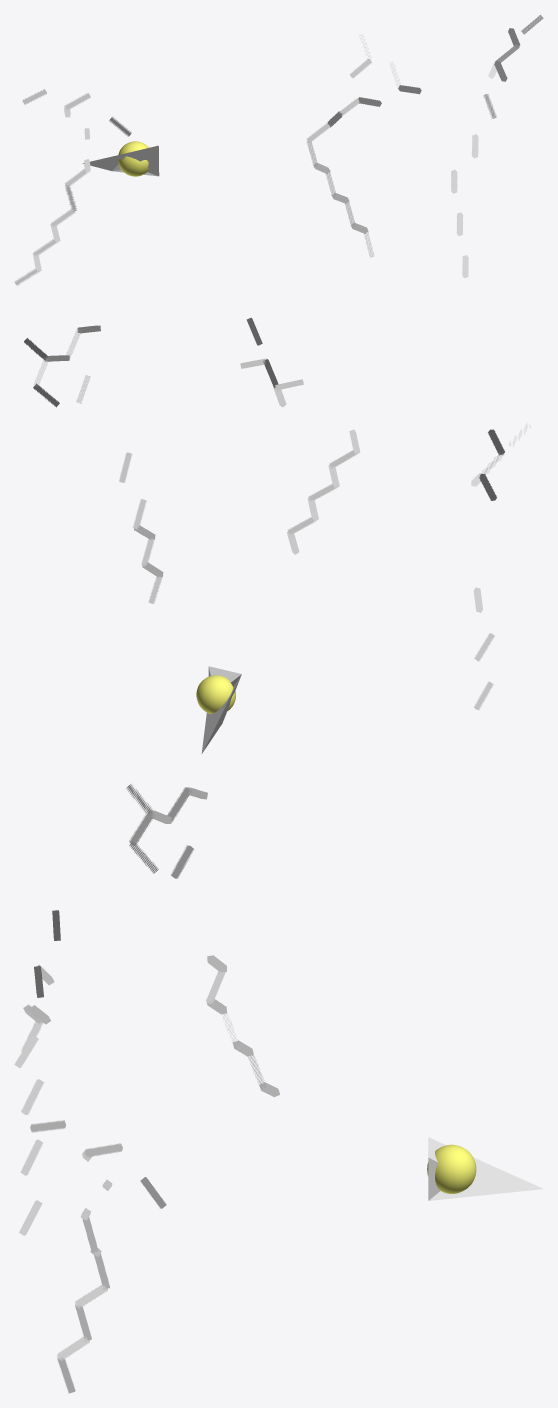
Rendered from ProteinPDB.glb.
3 views of the same model, one above another, from view 1: azimuth 30°, elevation 25°; view 2: azimuth 150°, elevation 25°; view 3: azimuth 270°, elevation 25° (orthographic). The views are drawn at different scales.
Parts seen in each view (by area): view 1: Carbon_sticks_mesh, Cube, Oxygen_sticks_mesh, Sulfur_ball; view 2: Carbon_sticks_mesh, Sulfur_ball, Cube, Oxygen_sticks_mesh; view 3: Carbon_sticks_mesh, Cube, Sulfur_ball, Oxygen_sticks_mesh.
Part boxes in pixels (<box>): Carbon_sticks_mesh: <box>14,23,533,285</box>; Cube: <box>82,145,159,176</box>; Oxygen_sticks_mesh: <box>22,15,543,139</box>; Sulfur_ball: <box>118,141,148,176</box>; Carbon_sticks_mesh: <box>33,326,520,710</box>; Sulfur_ball: <box>196,675,235,713</box>; Cube: <box>201,666,241,753</box>; Oxygen_sticks_mesh: <box>24,317,530,486</box>; Carbon_sticks_mesh: <box>19,787,279,1393</box>; Cube: <box>428,1137,542,1200</box>; Sulfur_ball: <box>427,1144,476,1193</box>; Oxygen_sticks_mesh: <box>14,784,207,1208</box>.
Size of the model in its own units: 32.81 by 18.07 by 21.97.
